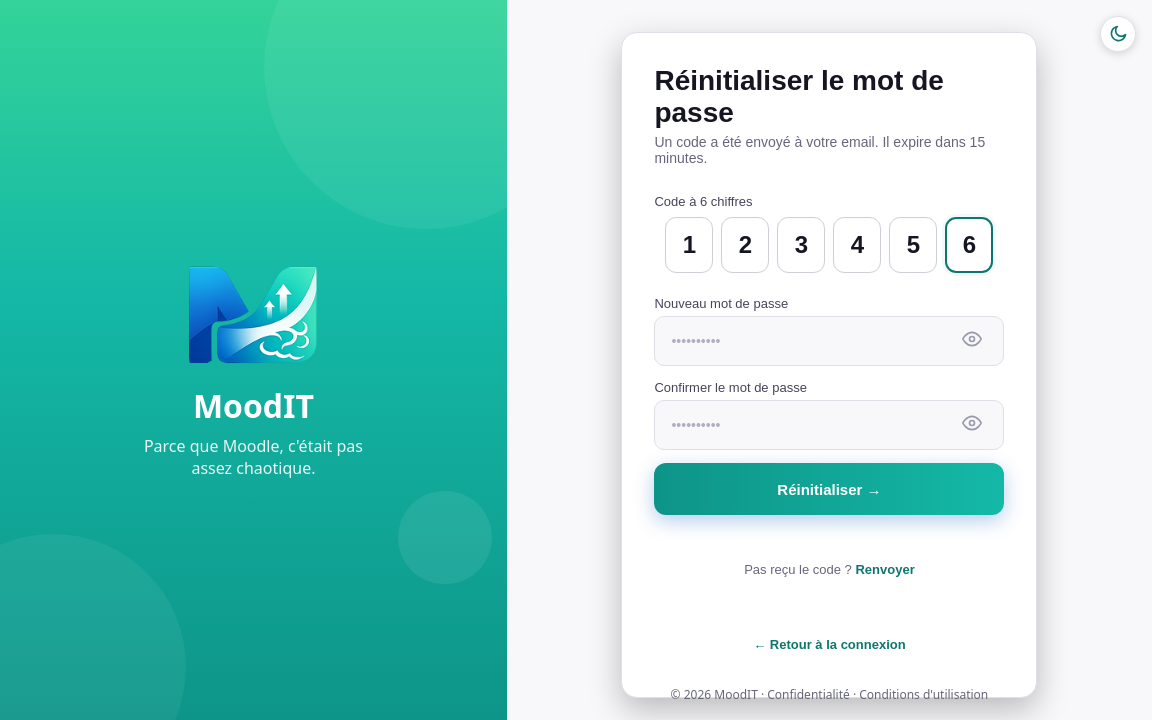
Scenario: ResetPassword › mot de passe « abc » / confirmation « abc » : ⚠ Mot de passe trop faible, code non surligné
In the password field with placeholder "••••••••••" below "Nouveau mot de passe": (829, 341) [654,316,1004,366], type "abc"
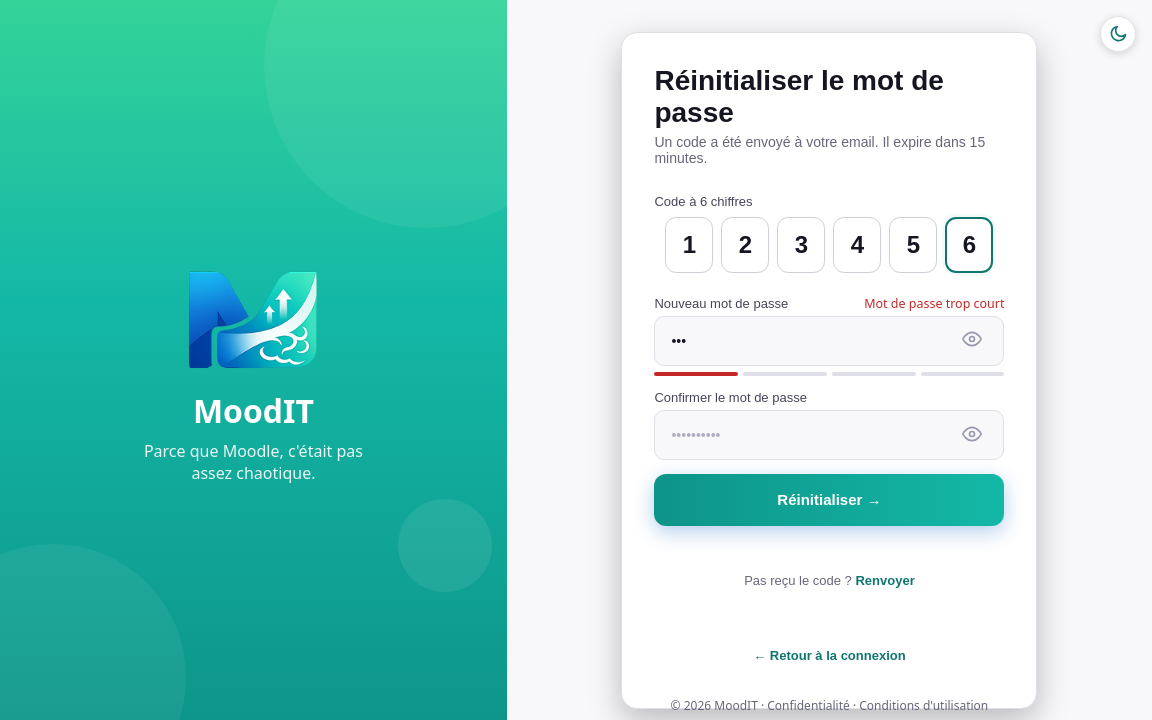
In the password field with placeholder "••••••••••": (829, 435) [654,410,1004,460], type "abc"
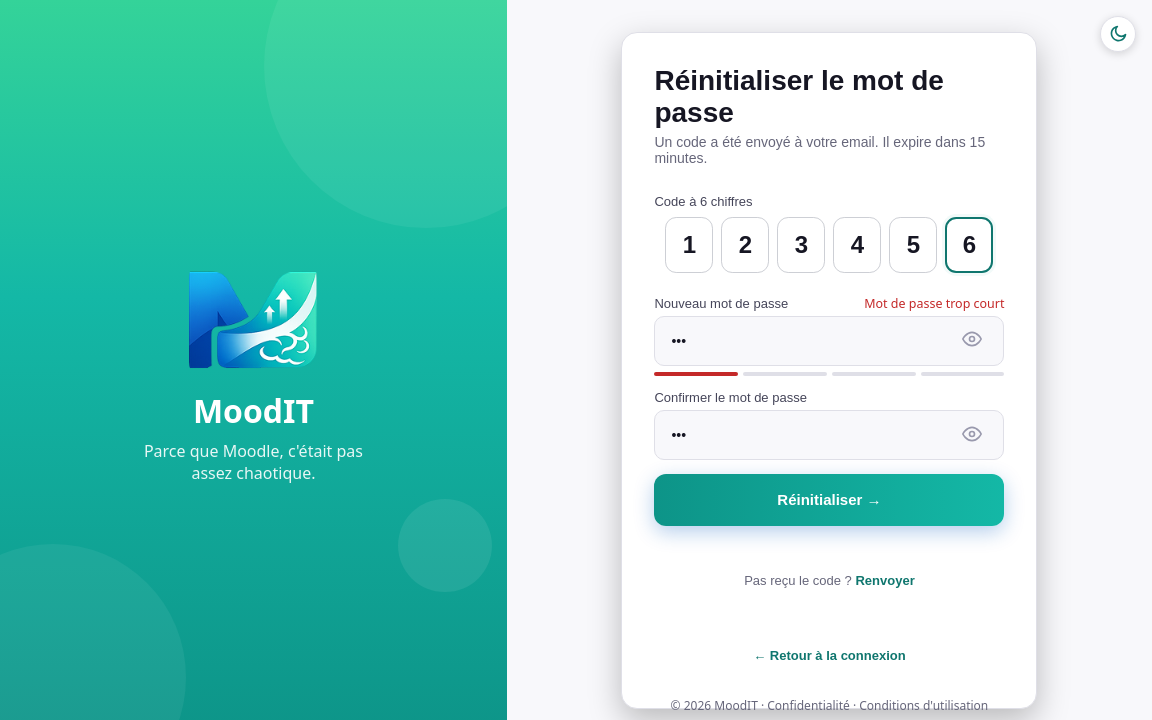
Click the button "Réinitialiser →": (829, 500) [654,474,1004,526]
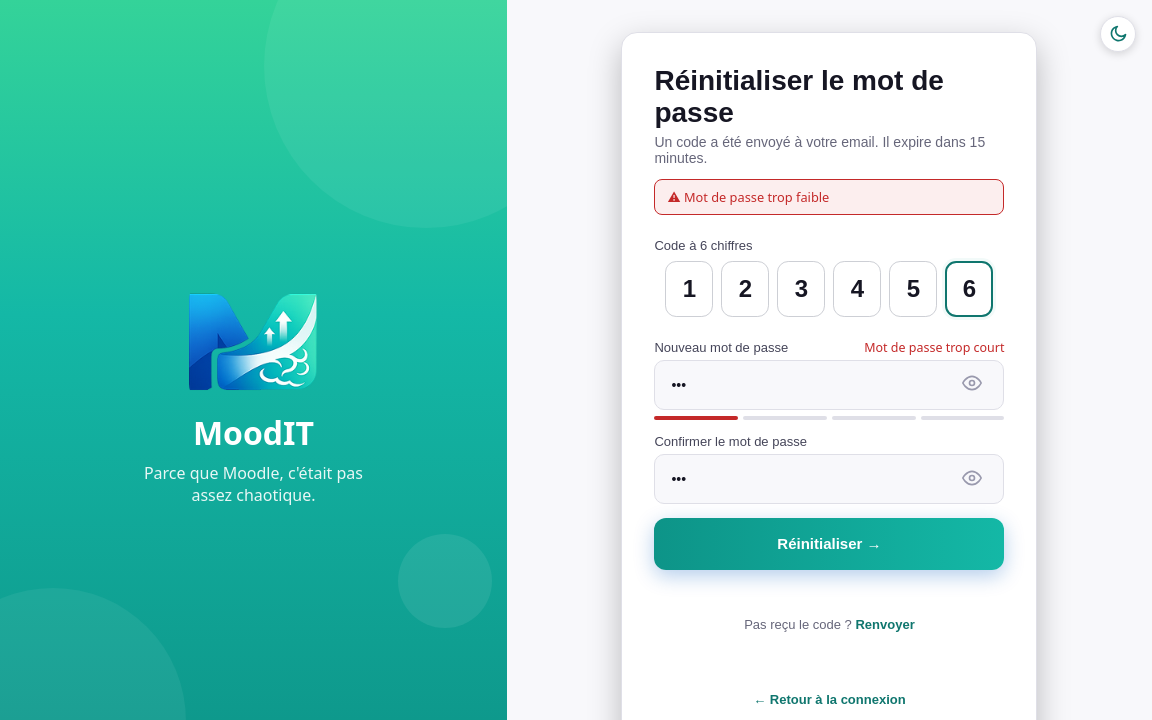
expect the text with class "server-error" reads "⚠ Mot de passe trop faible": met, box [654,179,1004,215]
